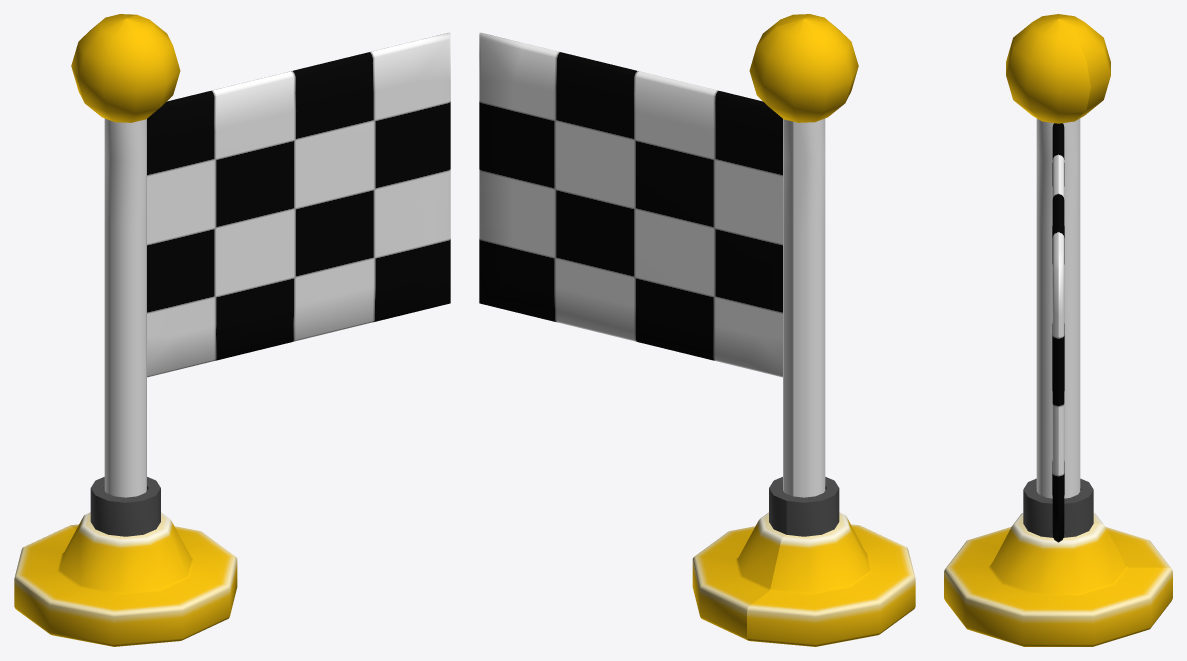
Rendered from flag.obj.
3 renders of one model, left to right at view 1: azimuth 30°, elevation 25°; view 2: azimuth 150°, elevation 25°; view 3: azimuth 270°, elevation 25°, orthographic.
Visible parts, largest first — view 1: pCube1__Mt_Flag, pCylinder1__Mt_Gold, pCylinder2__Mt_Body, pPipe1__Mt_Body; view 2: pCube1__Mt_Flag, pCylinder1__Mt_Gold, pCylinder2__Mt_Body, pPipe1__Mt_Body; view 3: pCylinder1__Mt_Gold, pCylinder2__Mt_Body, pCube1__Mt_Flag, pPipe1__Mt_Body.
Boxes of the visible parts, left/top/right/bottom form: pCube1__Mt_Flag: left=147, top=32, right=450, bottom=377; pCylinder1__Mt_Gold: left=14, top=14, right=237, bottom=646; pCylinder2__Mt_Body: left=104, top=118, right=146, bottom=497; pPipe1__Mt_Body: left=90, top=477, right=160, bottom=536; pCube1__Mt_Flag: left=479, top=32, right=782, bottom=377; pCylinder1__Mt_Gold: left=692, top=14, right=915, bottom=646; pCylinder2__Mt_Body: left=783, top=118, right=825, bottom=497; pPipe1__Mt_Body: left=769, top=477, right=839, bottom=536; pCylinder1__Mt_Gold: left=944, top=14, right=1172, bottom=646; pCylinder2__Mt_Body: left=1036, top=118, right=1080, bottom=498; pCube1__Mt_Flag: left=1052, top=123, right=1064, bottom=542; pPipe1__Mt_Body: left=1023, top=478, right=1093, bottom=537.
Size of the model in its own units: 21.45 by 28.51 by 10.12.
Materials: 3 (3 with a texture image).
